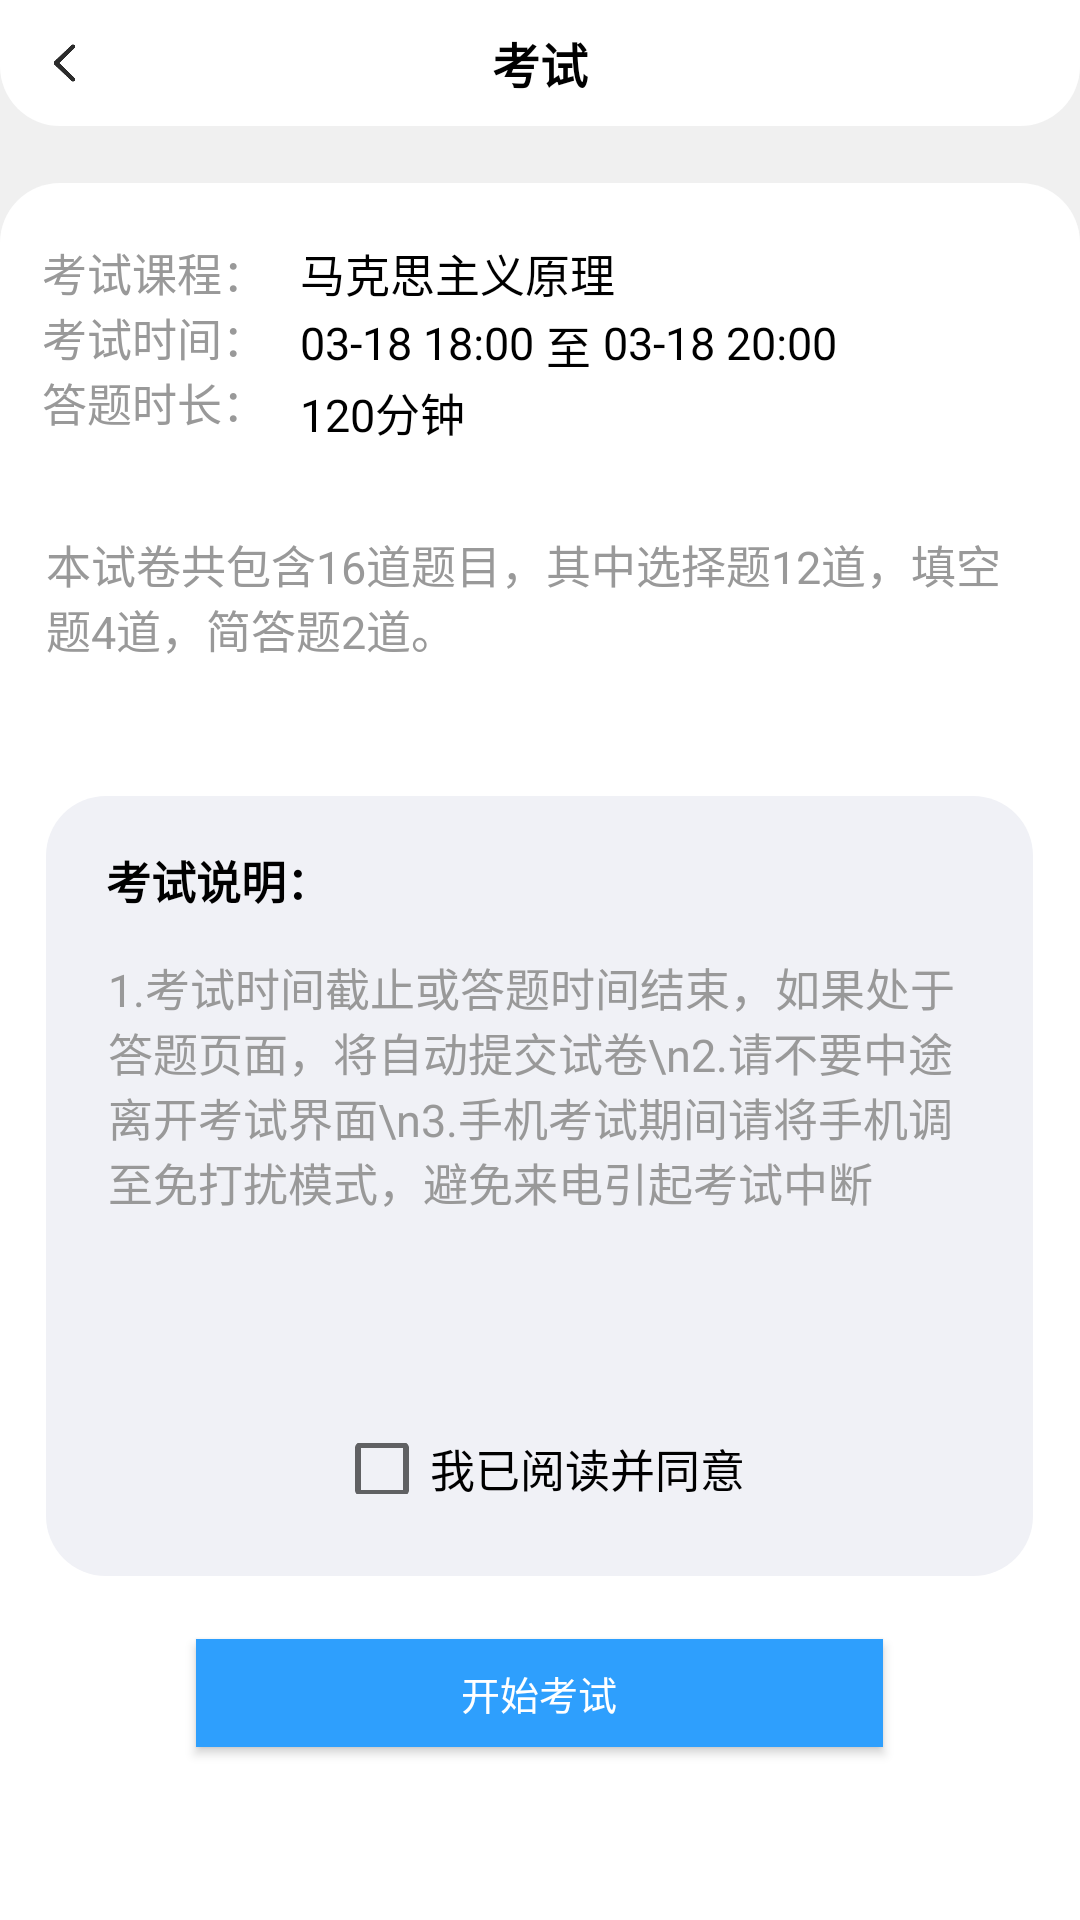

Named icons in this screenshot (1080 × 1920) and their bounding boxes, (x1, y1, x2, y2):
back arrow: (54, 44, 75, 82)
